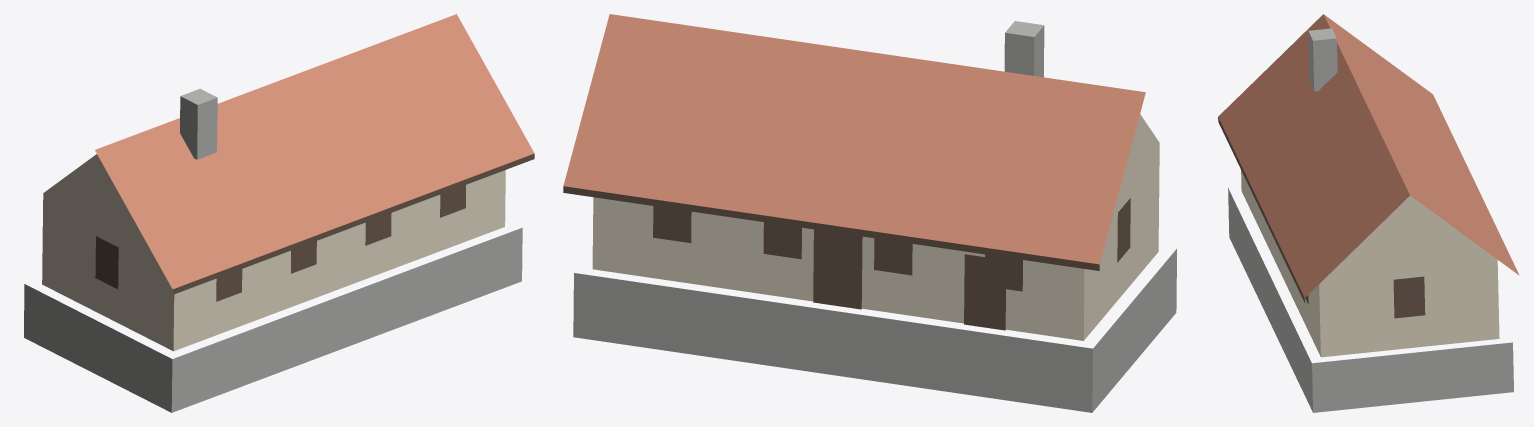
Rendered from house2.glb.
3 views of the same model, side by side, from view 1: azimuth 30°, elevation 25°; view 2: azimuth 150°, elevation 25°; view 3: azimuth 270°, elevation 25° (orthographic). The views are drawn at different scales.
Visible parts, largest first — view 1: raghave:Bld_Crossing_Longhouse_03; view 2: raghave:Bld_Crossing_Longhouse_03; view 3: raghave:Bld_Crossing_Longhouse_03.
Boxes of the visible parts, x1,y1,x2,y2 form: raghave:Bld_Crossing_Longhouse_03: (24, 14, 534, 412); raghave:Bld_Crossing_Longhouse_03: (563, 14, 1176, 412); raghave:Bld_Crossing_Longhouse_03: (1218, 14, 1519, 412).
Bounding box in the file's own units: 66.67 × 36.8 × 42.29.
